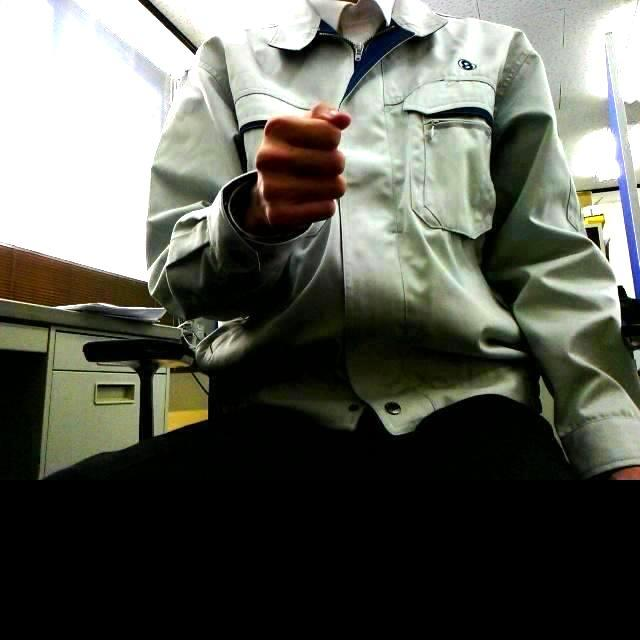gu-: (256, 105, 351, 228)
